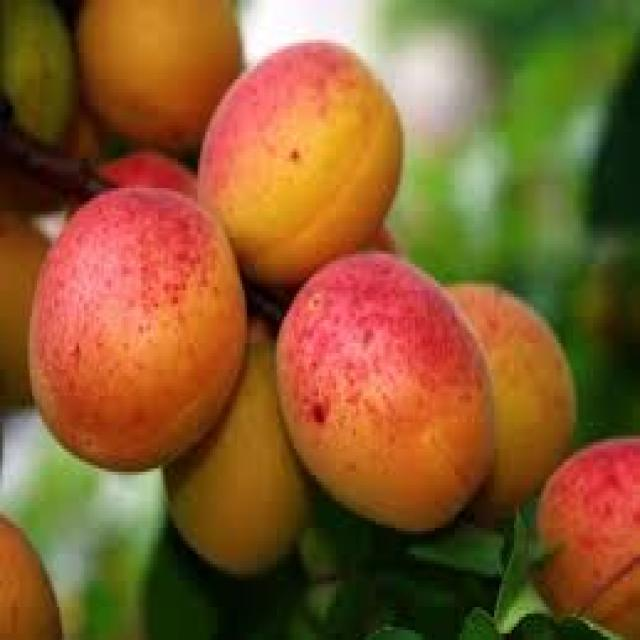kayisi: (314, 269, 478, 544), (52, 204, 182, 423)
yaprak: (363, 549, 486, 640)
